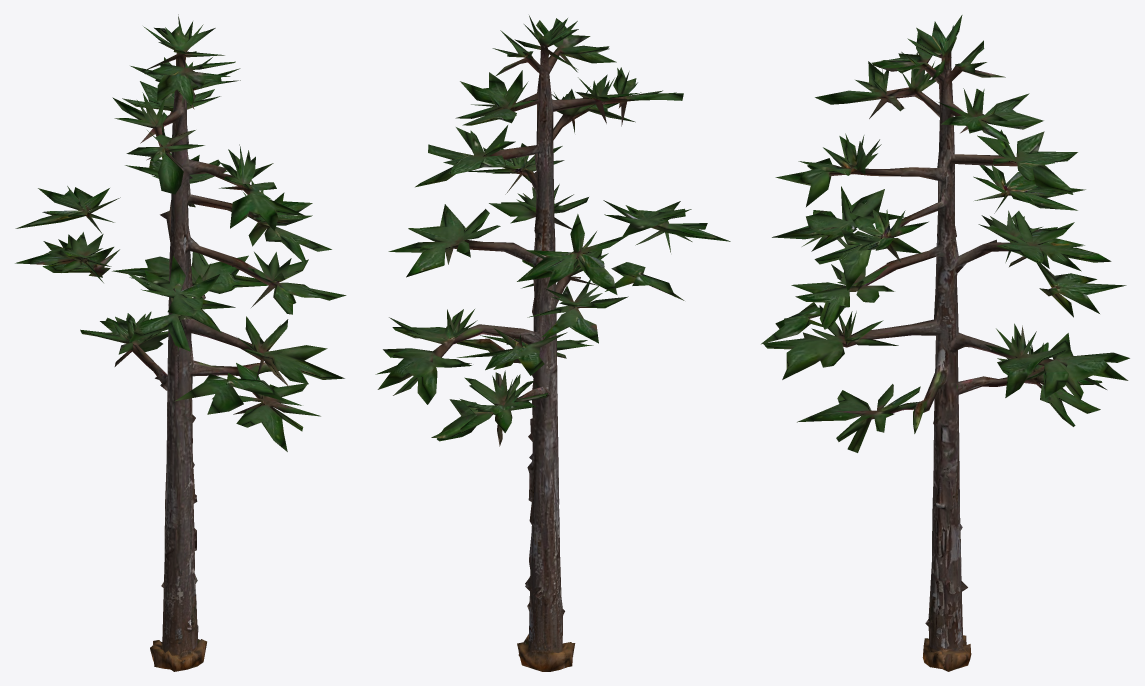
The model's file is hill_tree_pine.glb.
3 views of the same model, side by side, from view 1: azimuth 30°, elevation 25°; view 2: azimuth 150°, elevation 25°; view 3: azimuth 270°, elevation 25° (orthographic).
Parts seen in each view (by area): view 1: tripo_node_c63a0978-c9ce-4933-8d86-69ce3b80190b; view 2: tripo_node_c63a0978-c9ce-4933-8d86-69ce3b80190b; view 3: tripo_node_c63a0978-c9ce-4933-8d86-69ce3b80190b.
Boxes of the visible parts, x1,y1,x2,y2 form: tripo_node_c63a0978-c9ce-4933-8d86-69ce3b80190b: (15, 14, 346, 671); tripo_node_c63a0978-c9ce-4933-8d86-69ce3b80190b: (375, 15, 730, 671); tripo_node_c63a0978-c9ce-4933-8d86-69ce3b80190b: (761, 15, 1129, 671).
Size of the model in its own units: 0.3884 by 0.9786 by 0.5204.
1 material, 1 textured.
